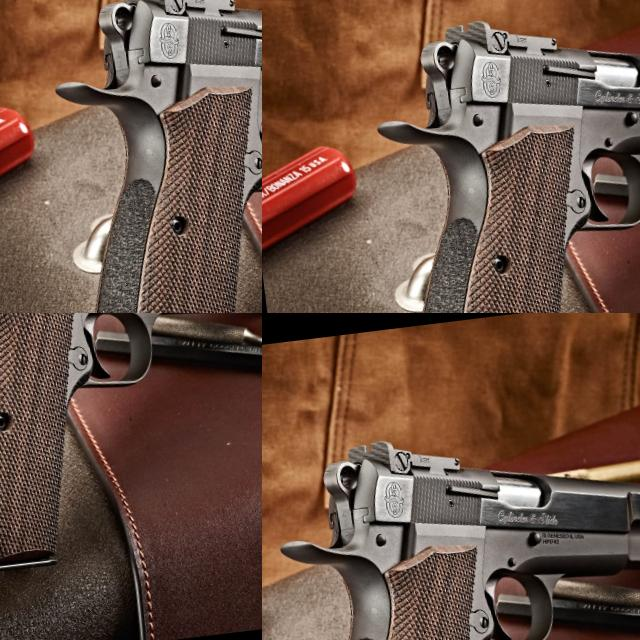handgun: (262, 396, 640, 640), (0, 0, 252, 114), (303, 0, 512, 119), (0, 313, 88, 355)
